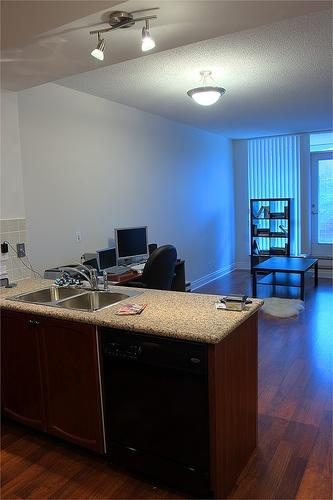chair: (127, 245, 177, 293)
tvmonitor: (115, 226, 151, 266)
